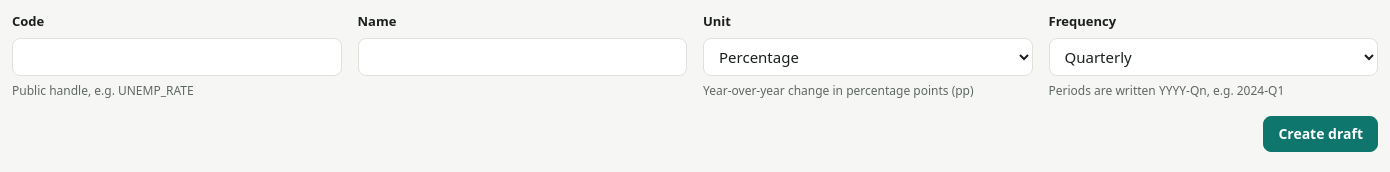
it: IndicatorForm › shows the period format for the chosen frequency
The width and height of the screenshot is (1390, 172).
Check: the text "Periods are written YYYY-Qn, e.g. 2024-Q1" is shown, box x1=1048 y1=82 x2=1284 y2=98
Step 1. Select "Monthly" in the dropdown labelled "Frequency" → (1213, 56), box x1=1048 y1=38 x2=1378 y2=76
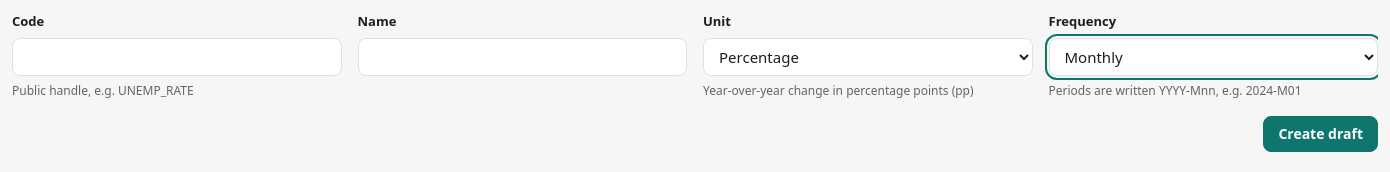
Check: the text "Periods are written YYYY-Mnn, e.g. 2024-M01" is shown, box x1=1048 y1=82 x2=1302 y2=98
